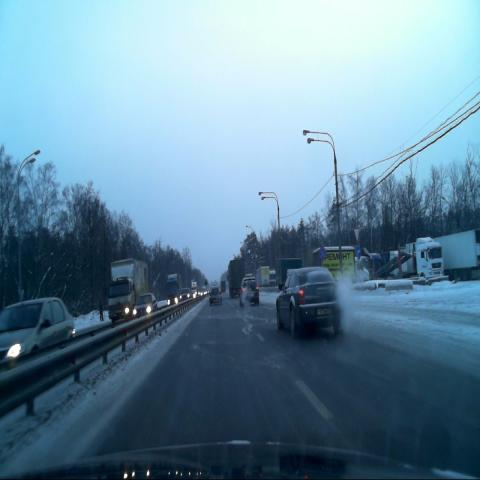2_4: (352, 226, 360, 243)
3_27: (318, 245, 326, 260)
